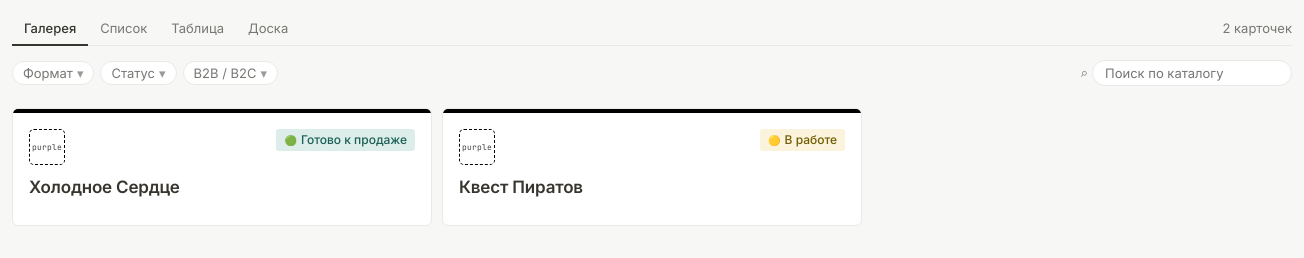
Test: CatalogView › switches to list view
Click the button "Список".
click(124, 29)  # box x1=88 y1=12 x2=159 y2=46
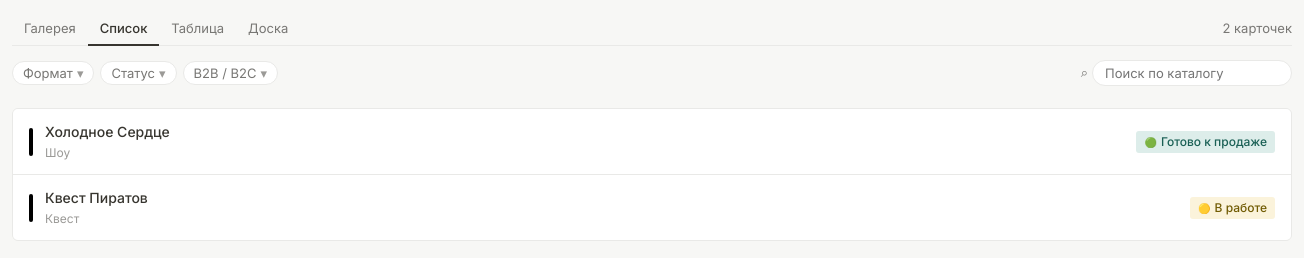
Expected: the element with class "clist" is shown, x1=12 y1=108 x2=1292 y2=241
